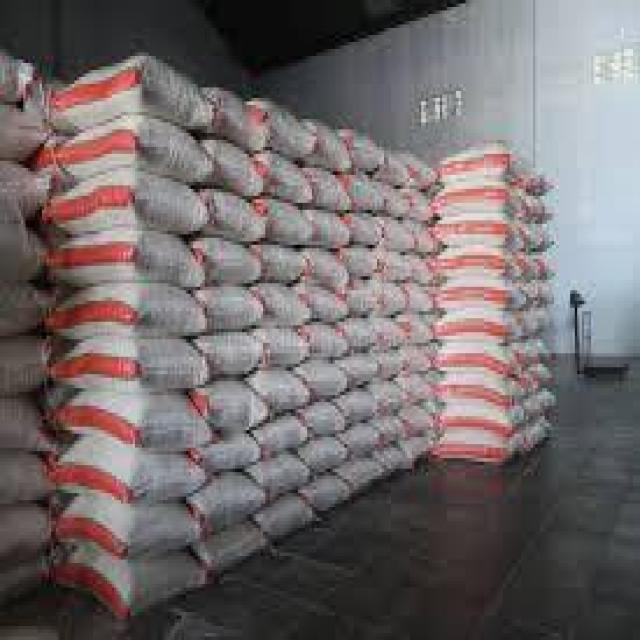gunny_bag: (57, 65, 218, 135), (50, 551, 202, 620), (58, 446, 196, 510), (68, 396, 198, 460), (57, 175, 205, 231), (68, 128, 204, 183), (61, 505, 192, 561), (64, 343, 201, 396), (51, 243, 201, 290), (59, 295, 197, 340), (198, 475, 266, 545), (436, 280, 515, 316), (213, 138, 263, 193), (264, 102, 311, 160), (438, 251, 522, 283), (260, 411, 308, 465), (436, 185, 513, 218), (440, 401, 514, 435), (263, 498, 315, 546), (206, 385, 262, 428), (264, 157, 311, 208), (208, 240, 260, 286), (206, 193, 265, 233), (443, 150, 508, 185), (443, 378, 513, 410), (439, 315, 510, 346), (446, 348, 510, 380), (207, 333, 255, 375), (439, 218, 510, 246), (206, 290, 259, 326), (313, 128, 350, 175), (268, 205, 311, 245), (306, 360, 346, 401), (212, 438, 255, 476), (308, 253, 348, 293), (265, 330, 307, 368), (310, 175, 349, 213), (345, 456, 385, 493), (314, 473, 349, 515), (310, 438, 348, 475), (345, 351, 380, 390), (342, 391, 378, 428), (307, 398, 340, 435), (266, 250, 305, 281), (269, 288, 303, 323), (311, 217, 350, 246), (347, 423, 379, 458), (378, 316, 412, 348), (373, 378, 405, 411), (352, 178, 385, 209), (383, 221, 417, 248), (350, 215, 380, 244), (344, 320, 375, 348), (347, 253, 381, 278), (402, 377, 432, 405), (404, 406, 434, 430)
